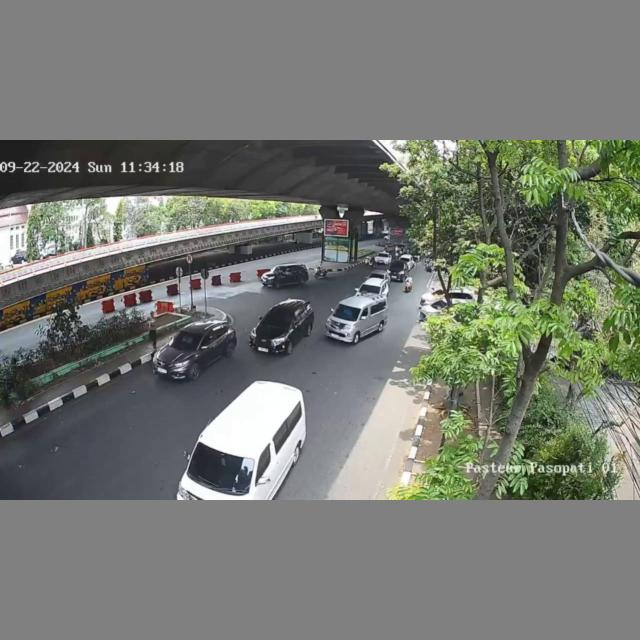windshield: (187, 442, 254, 494), (167, 329, 205, 350), (262, 309, 293, 330), (331, 302, 360, 321)
